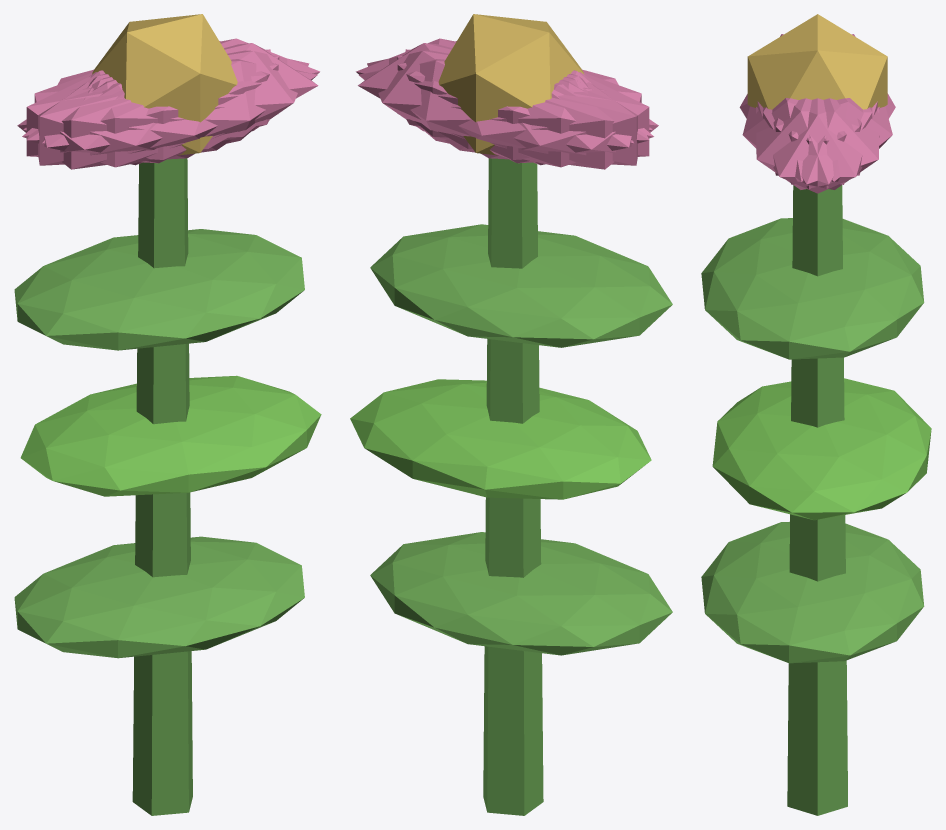
Rendered from evolvulus-nummularius.glb.
3 views of the same model, side by side, from view 1: azimuth 30°, elevation 25°; view 2: azimuth 150°, elevation 25°; view 3: azimuth 270°, elevation 25° (orthographic).
Parts seen in each view (by area): view 1: leaf2, leaf0, leaf1, stem, center, petal1, petal6, petal2, petal5, petal7, petal0, petal4 (+2 smaller); view 2: leaf2, leaf1, leaf0, stem, center, petal8, petal3, petal7, petal4, petal2, petal0, petal5 (+2 smaller); view 3: leaf2, leaf1, leaf0, stem, center, petal0, petal5, petal4, petal8, petal1.
Part boxes in pixels (bbox=[...]): leaf2: bbox=[14, 229, 304, 350]; leaf0: bbox=[14, 536, 304, 658]; leaf1: bbox=[20, 375, 321, 496]; stem: bbox=[132, 158, 192, 815]; center: bbox=[92, 14, 237, 155]; petal1: bbox=[22, 59, 317, 167]; petal6: bbox=[17, 72, 231, 169]; petal2: bbox=[38, 49, 270, 165]; petal5: bbox=[42, 50, 309, 159]; petal7: bbox=[26, 55, 279, 163]; petal0: bbox=[92, 43, 318, 149]; petal4: bbox=[23, 38, 319, 140]; leaf2: bbox=[370, 224, 672, 347]; leaf1: bbox=[350, 379, 651, 499]; leaf0: bbox=[370, 532, 672, 655]; stem: bbox=[483, 158, 543, 815]; center: bbox=[438, 14, 584, 155]; petal8: bbox=[359, 59, 653, 167]; petal3: bbox=[445, 72, 658, 169]; petal7: bbox=[405, 49, 637, 165]; petal4: bbox=[367, 50, 633, 159]; petal2: bbox=[397, 55, 649, 163]; petal0: bbox=[358, 43, 584, 149]; petal5: bbox=[356, 38, 652, 140]; leaf2: bbox=[701, 218, 924, 359]; leaf1: bbox=[712, 378, 931, 520]; leaf0: bbox=[701, 521, 924, 663]; stem: bbox=[787, 185, 847, 815]; center: bbox=[747, 14, 887, 109]; petal0: bbox=[757, 98, 877, 193]; petal5: bbox=[756, 98, 872, 189]; petal4: bbox=[763, 98, 879, 189]; petal8: bbox=[773, 98, 892, 181]; petal1: bbox=[742, 98, 861, 181].
Size of the model in its own units: 0.1452 by 0.3722 by 0.1008.
